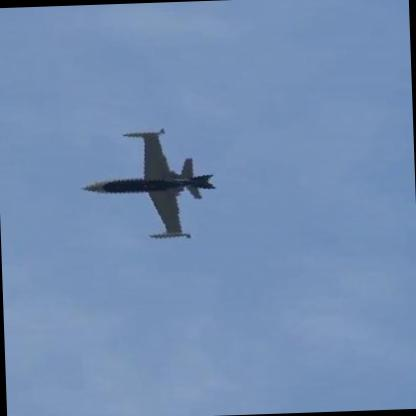plane: (74, 112, 227, 249)
